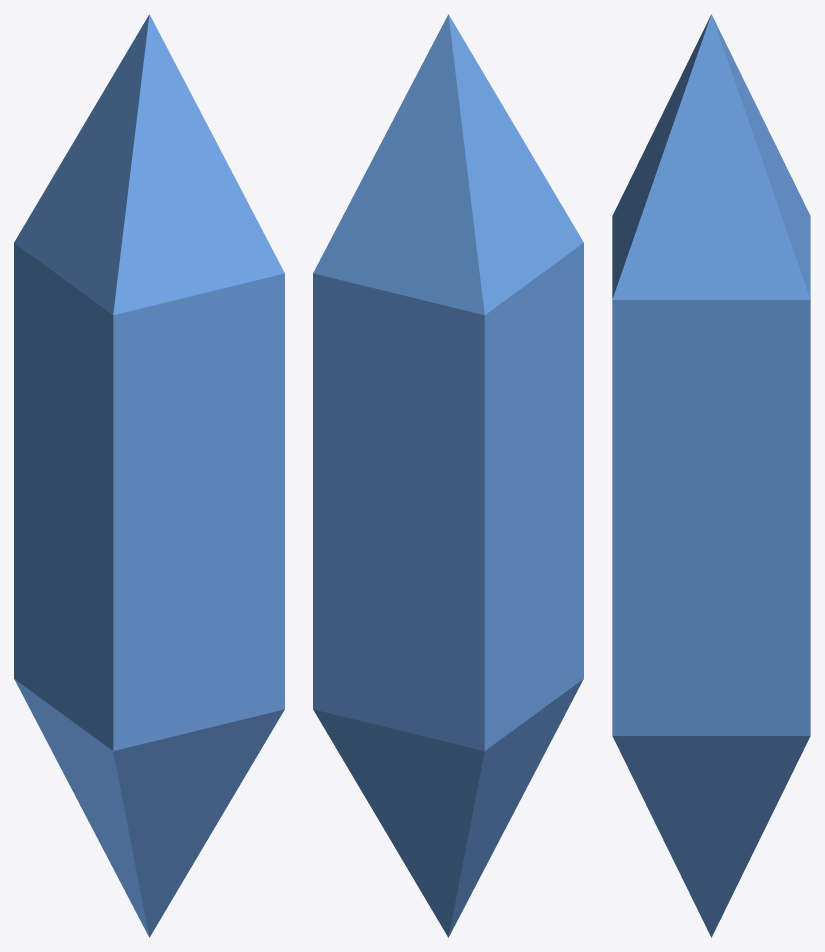
Rendered from FinishLevelPickup.glb.
The picture shows the model from 3 angles, left to right: view 1: azimuth 30°, elevation 25°; view 2: azimuth 150°, elevation 25°; view 3: azimuth 270°, elevation 25°; orthographic projection.
Visible parts, largest first — view 1: Cube; view 2: Cube; view 3: Cube.
Part boxes in pixels (bbox=[...]): Cube: bbox=[14, 14, 284, 937]; Cube: bbox=[313, 14, 583, 937]; Cube: bbox=[612, 14, 810, 937].
Bounding box in the file's own units: 1.39 × 7.13 × 1.39.
Materials: 1 (1 with a texture image).
